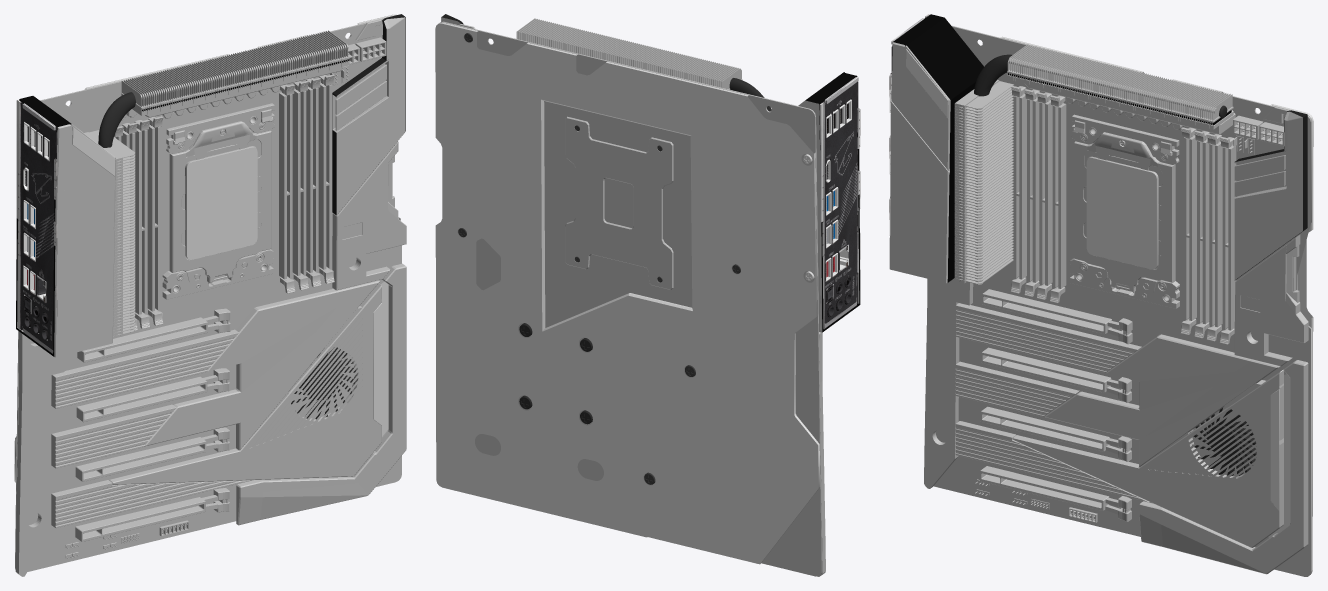
File: Gigabyte TRX40 AORUS XTREME.fbx
The picture shows the model from 3 angles, left to right: view 1: azimuth 30°, elevation 25°; view 2: azimuth 150°, elevation 25°; view 3: azimuth 330°, elevation 25°; orthographic projection.
Visible parts, largest first — view 1: Plane.001; view 2: Plane.001; view 3: Plane.001.
Boxes of the visible parts, <box> form: Plane.001: <box>14,14,406,576</box>; Plane.001: <box>435,14,860,576</box>; Plane.001: <box>889,14,1313,576</box>.
Bounding box in the file's own units: 399 × 471 × 75.84.
